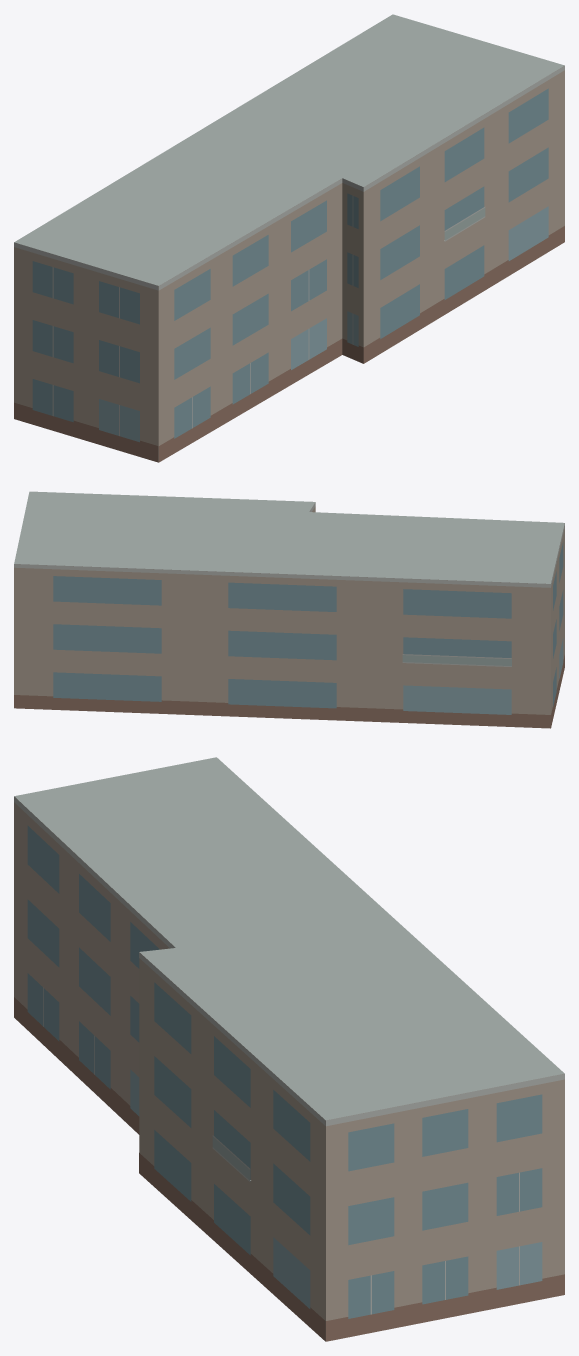
Rendered from survey-upis-32489923.glb.
3 views of the same model, one above another, from view 1: azimuth 30°, elevation 25°; view 2: azimuth 150°, elevation 25°; view 3: azimuth 270°, elevation 25° (orthographic). The views are drawn at different scales.
Visible parts, largest first — view 1: survey-upis-32489923.tmp; view 2: survey-upis-32489923.tmp; view 3: survey-upis-32489923.tmp.
Boxes of the visible parts, bbox=[...] form: survey-upis-32489923.tmp: bbox=[14, 14, 564, 462]; survey-upis-32489923.tmp: bbox=[14, 491, 564, 728]; survey-upis-32489923.tmp: bbox=[14, 757, 564, 1341].
Bounding box in the file's own units: 32.22 × 9.15 × 20.65.
